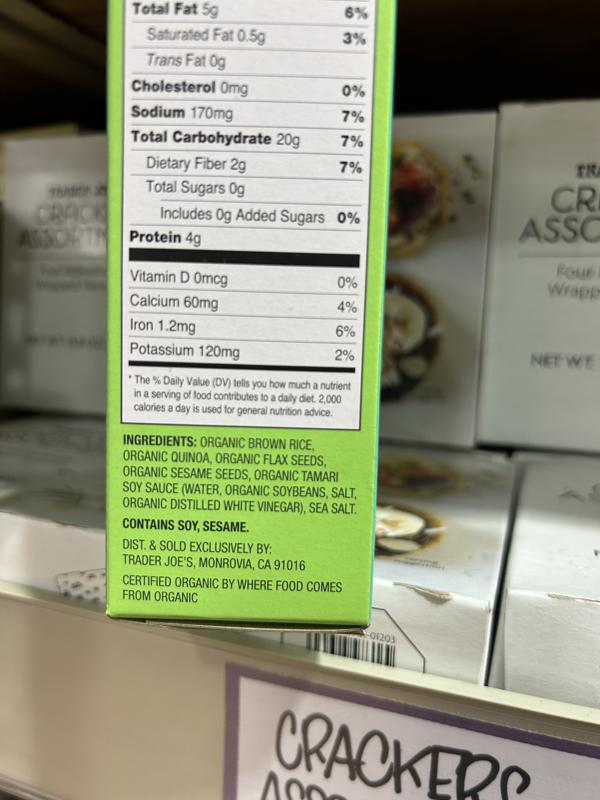ingredients: (119, 432, 359, 517)
